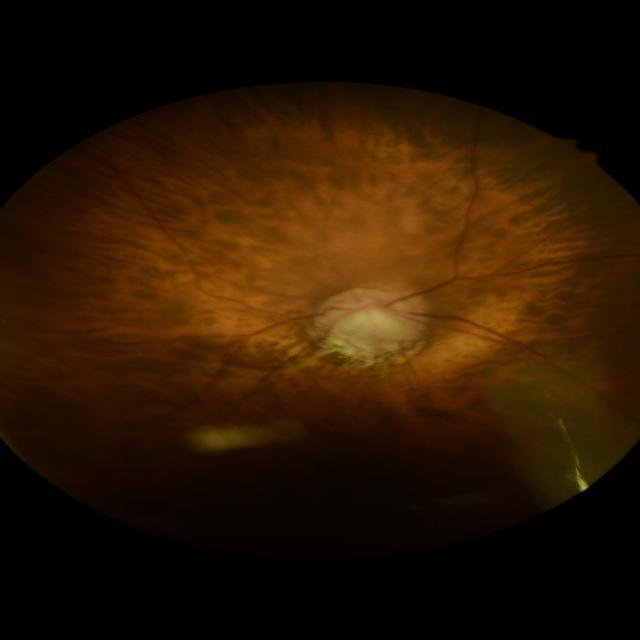cup: (332, 299, 412, 337)
disk: (322, 286, 428, 348)
